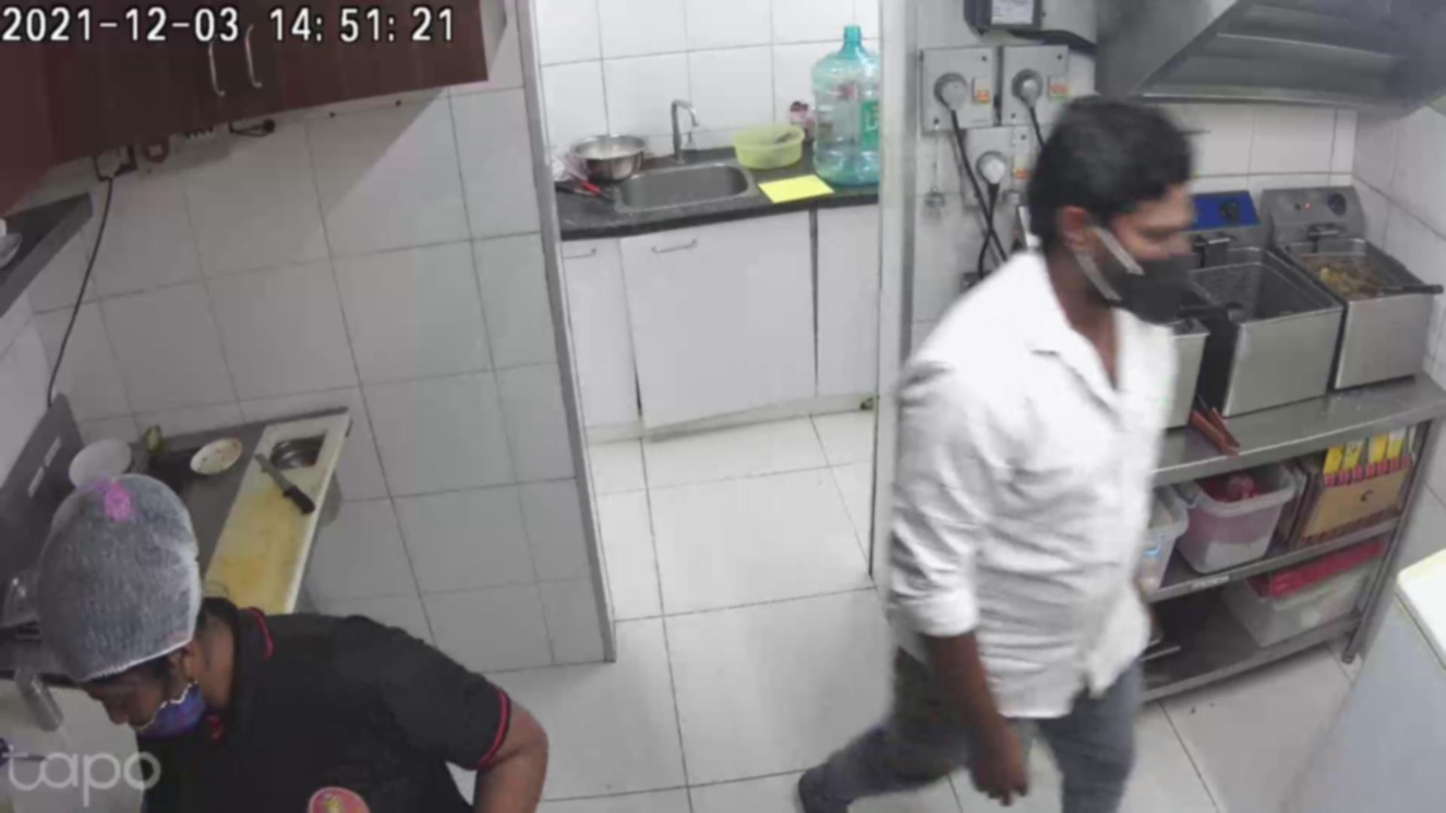gloves: (16, 467, 214, 686)
mask: (1063, 172, 1211, 327)
no_apron: (925, 699, 1063, 813)
no_gloves: (980, 69, 1201, 244)
no_hairnet: (78, 632, 227, 764)
